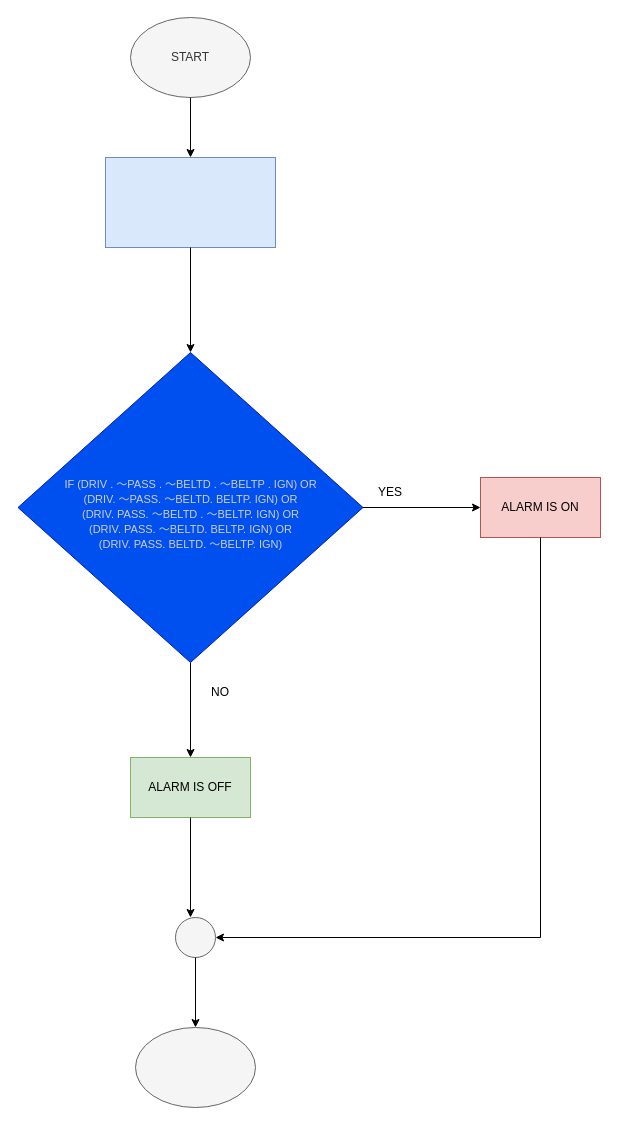
This 618x1125 diagram has some shape labels left out. The shapes that lost their labels are listed below. From the top down, each one's centre as x and y in pixels, then its label:
the point at 190,202: initialize DRIV, PASS, BELTD, BELTP, IGN status
the point at 195,1067: END
